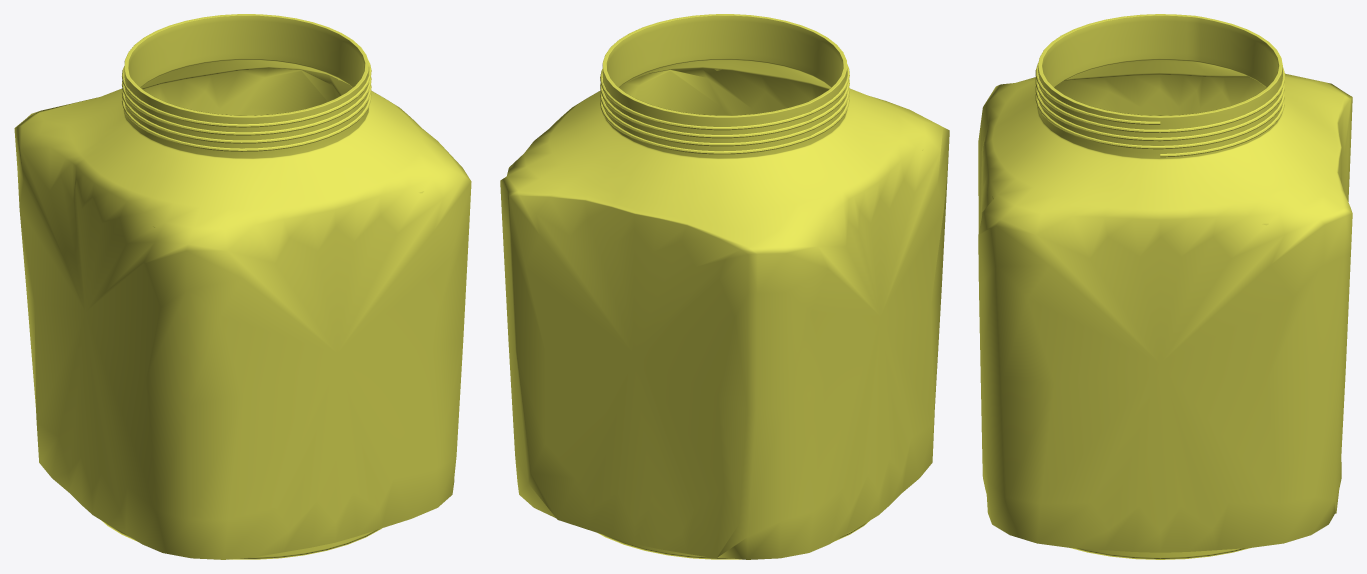
The model's file is bottole_body.fbx.
The picture shows the model from 3 angles, left to right: view 1: azimuth 30°, elevation 25°; view 2: azimuth 150°, elevation 25°; view 3: azimuth 270°, elevation 25°; orthographic projection.
Parts seen in each view (by area): view 1: pCylinder3; view 2: pCylinder3; view 3: pCylinder3.
Part boxes in pixels (x1,y1,x2,y2): pCylinder3: (14, 14, 471, 559); pCylinder3: (500, 14, 949, 559); pCylinder3: (978, 14, 1352, 559).
Size of the model in its own units: 2.08 by 2.64 by 2.1.
